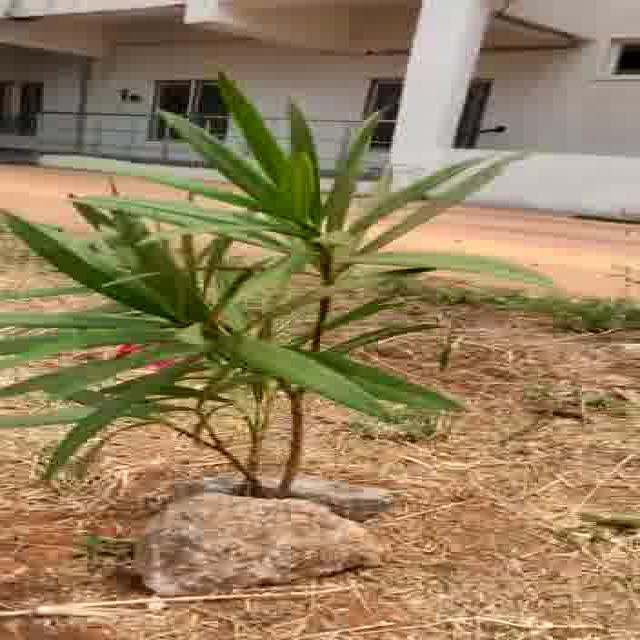OLEANDER: (4, 75, 576, 508)
